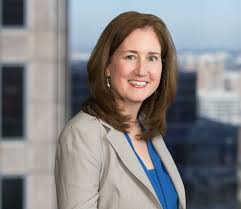white_female: (102, 15, 175, 117)
